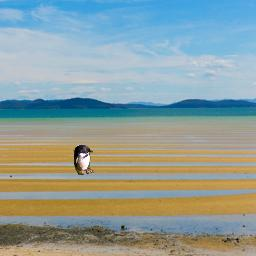Swallow: (73, 144, 94, 175)
